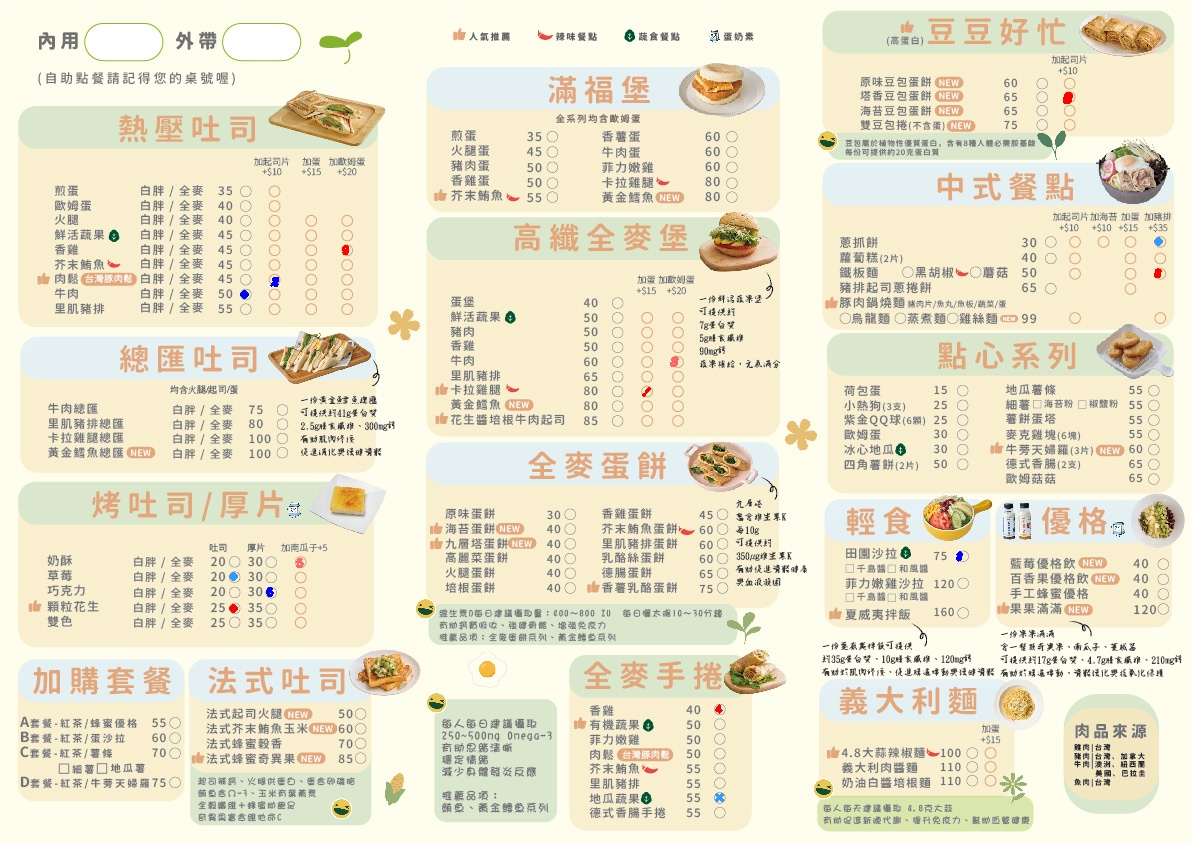marked_circle: (228, 571, 238, 582), (1153, 236, 1163, 247), (239, 289, 249, 300), (228, 603, 238, 614)
marked_number_1: (957, 550, 967, 561)
marked_number_2: (269, 274, 279, 285)
marked_number_3: (671, 356, 681, 367)
marked_number_4: (714, 703, 724, 714)
marked_number_5: (295, 557, 305, 568)
marked_number_6: (265, 586, 275, 597)
marked_number_8: (1155, 269, 1165, 280), (1064, 93, 1074, 104)
marked_number_9: (341, 244, 351, 255)
marked_tick: (641, 386, 651, 397)
marked_x: (714, 792, 724, 803)
